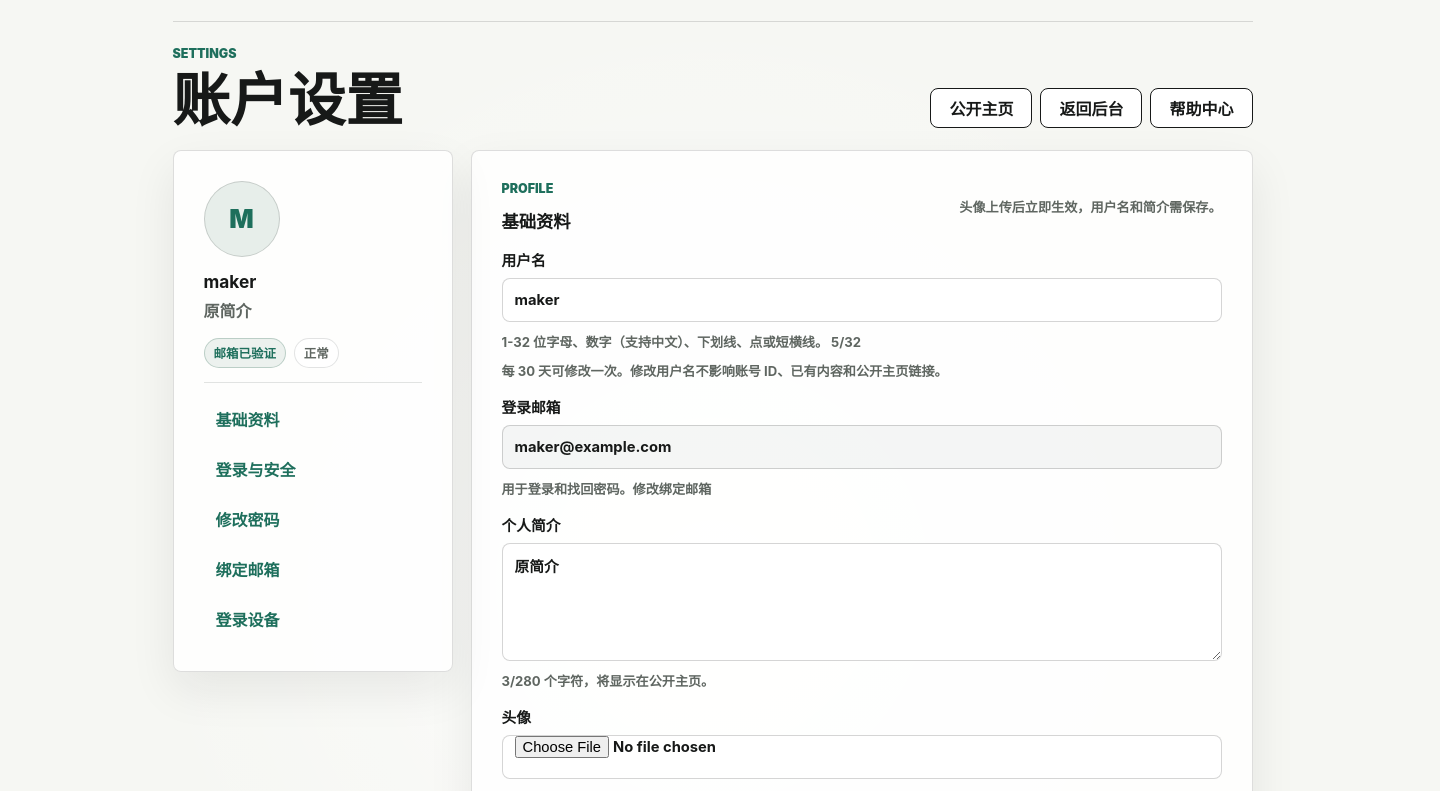
Test case: 账号设置操作 › 只有修改资料后才能保存，并可撤销
The image size is (1440, 791).
Replace the text in the text box labelled "个人简介" with "新简介" at (862,602), box [502,543,1222,661]
(page scrolled)
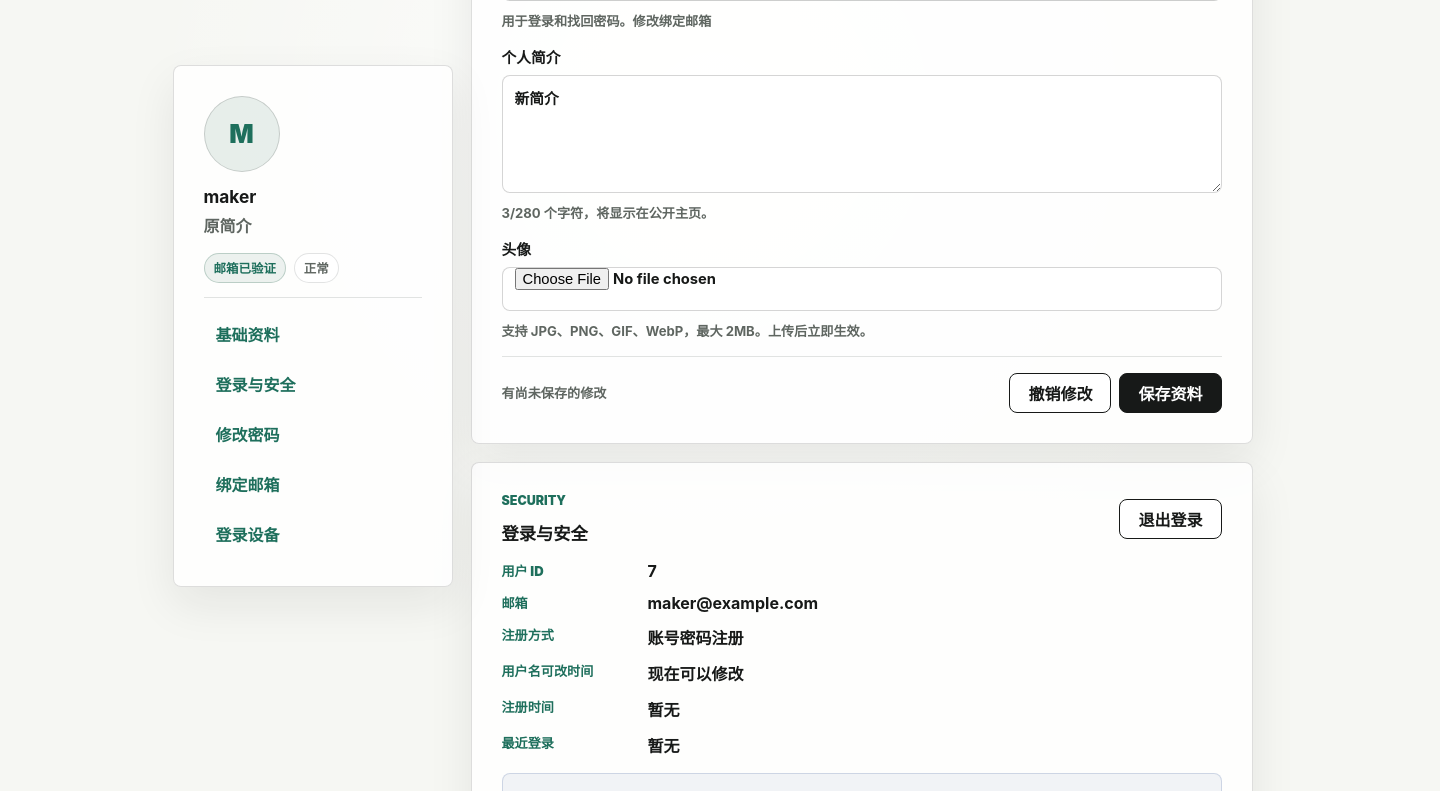
Expected: the submit button is enabled, [1120,373,1222,413]
Click the button "撤销修改".
click(1060, 393)  # box [1010,373,1112,413]
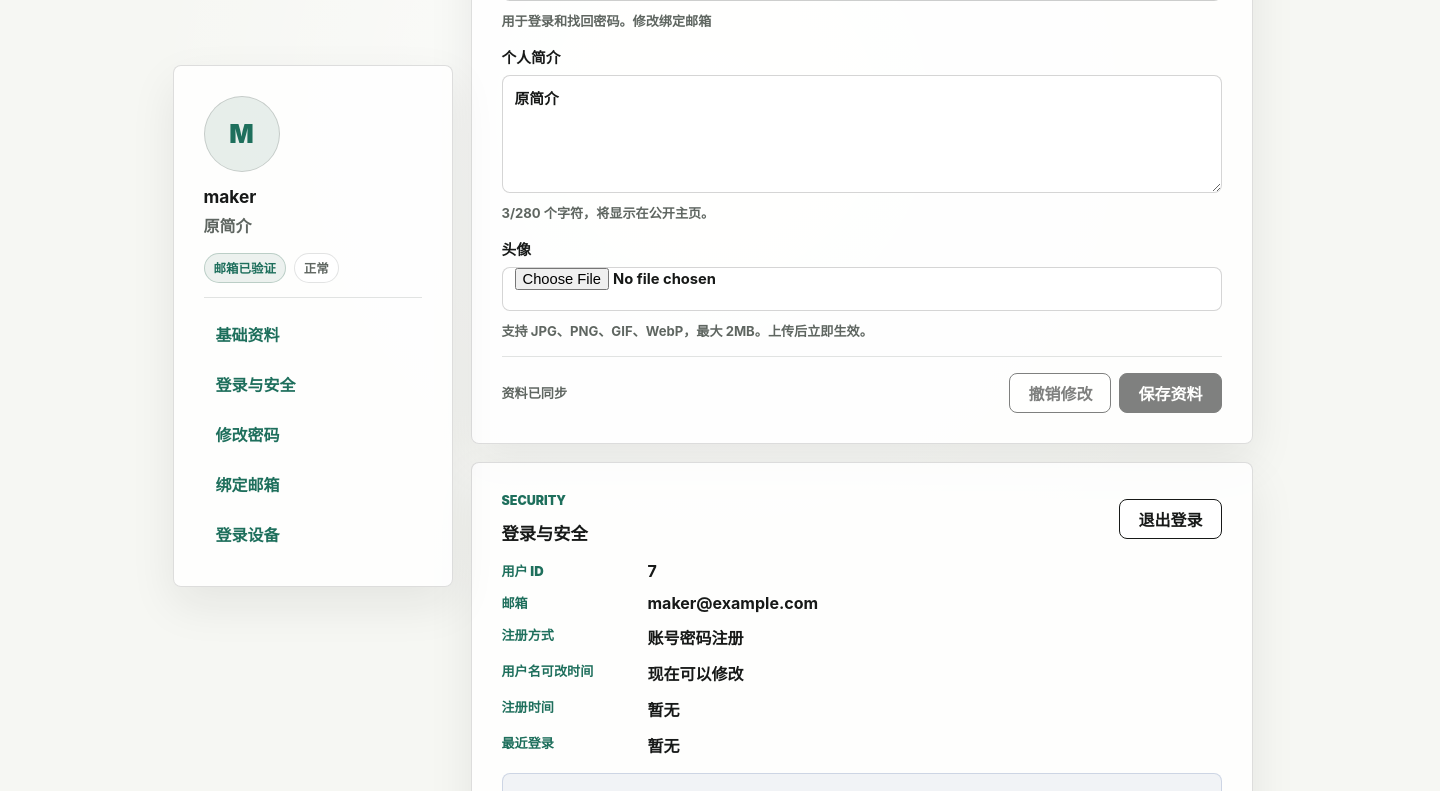
Expected: the text box labelled "个人简介" holds "原简介", [502,75,1222,193]
Expected: the submit button is disabled, [1120,373,1222,413]
